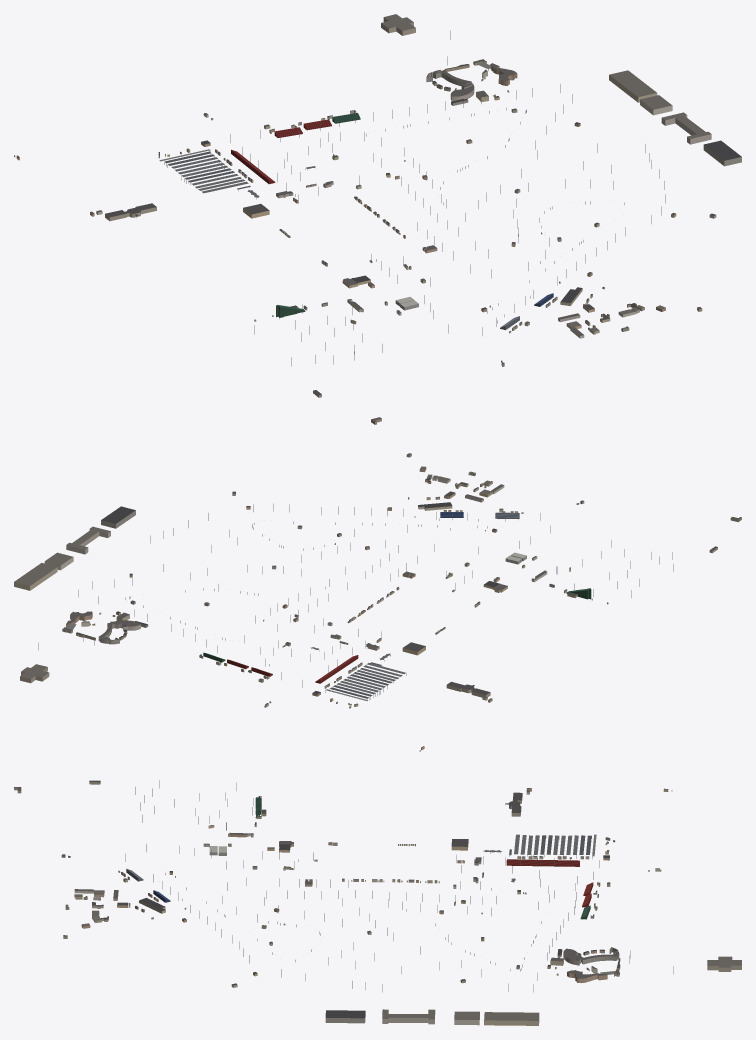
The model's file is scenery.glb.
3 views of the same model, one above another, from view 1: azimuth 30°, elevation 25°; view 2: azimuth 150°, elevation 25°; view 3: azimuth 270°, elevation 25° (orthographic). The views are drawn at different scales.
Visible parts, largest first — view 1: chunk_13_13, chunk_14_16, chunk_15_13, chunk_16_14, chunk_16_13, chunk_13_15, chunk_14_13, chunk_15_12; view 2: chunk_13_13, chunk_14_16, chunk_15_13, chunk_16_14, chunk_16_13, chunk_13_15, chunk_14_13, chunk_15_12; view 3: chunk_13_13, chunk_15_13, chunk_14_16, chunk_16_14, chunk_16_13, chunk_13_15, chunk_14_13, chunk_15_12, chunk_14_14.
Part boxes in pixels (left/top/right/bottom): chunk_13_13: left=159, top=140, right=295, bottom=199; chunk_14_16: left=481, top=287, right=644, bottom=338; chunk_15_13: left=392, top=63, right=555, bottom=143; chunk_16_14: left=574, top=112, right=741, bottom=178; chunk_16_13: left=560, top=70, right=672, bottom=115; chunk_13_15: left=276, top=254, right=433, bottom=336; chunk_14_13: left=230, top=110, right=413, bottom=188; chunk_15_12: left=381, top=14, right=491, bottom=71; chunk_13_13: left=312, top=641, right=406, bottom=705; chunk_14_16: left=408, top=471, right=523, bottom=532; chunk_15_13: left=66, top=578, right=209, bottom=644; chunk_16_14: left=66, top=506, right=188, bottom=577; chunk_16_13: left=14, top=552, right=114, bottom=597; chunk_13_15: left=452, top=536, right=609, bottom=599; chunk_14_13: left=199, top=608, right=348, bottom=687; chunk_15_12: left=20, top=624, right=95, bottom=683; chunk_13_13: left=474, top=834, right=609, bottom=866; chunk_15_13: left=465, top=919, right=619, bottom=983; chunk_14_16: left=65, top=868, right=175, bottom=922; chunk_16_14: left=325, top=979, right=465, bottom=1024; chunk_16_13: left=454, top=983, right=539, bottom=1025; chunk_13_15: left=179, top=796, right=317, bottom=861; chunk_14_13: left=467, top=858, right=600, bottom=920; chunk_15_12: left=600, top=950, right=741, bottom=976; chunk_14_14: left=321, top=865, right=465, bottom=921.
Bounding box in the file's own units: 1623 × 62.91 × 2031.
